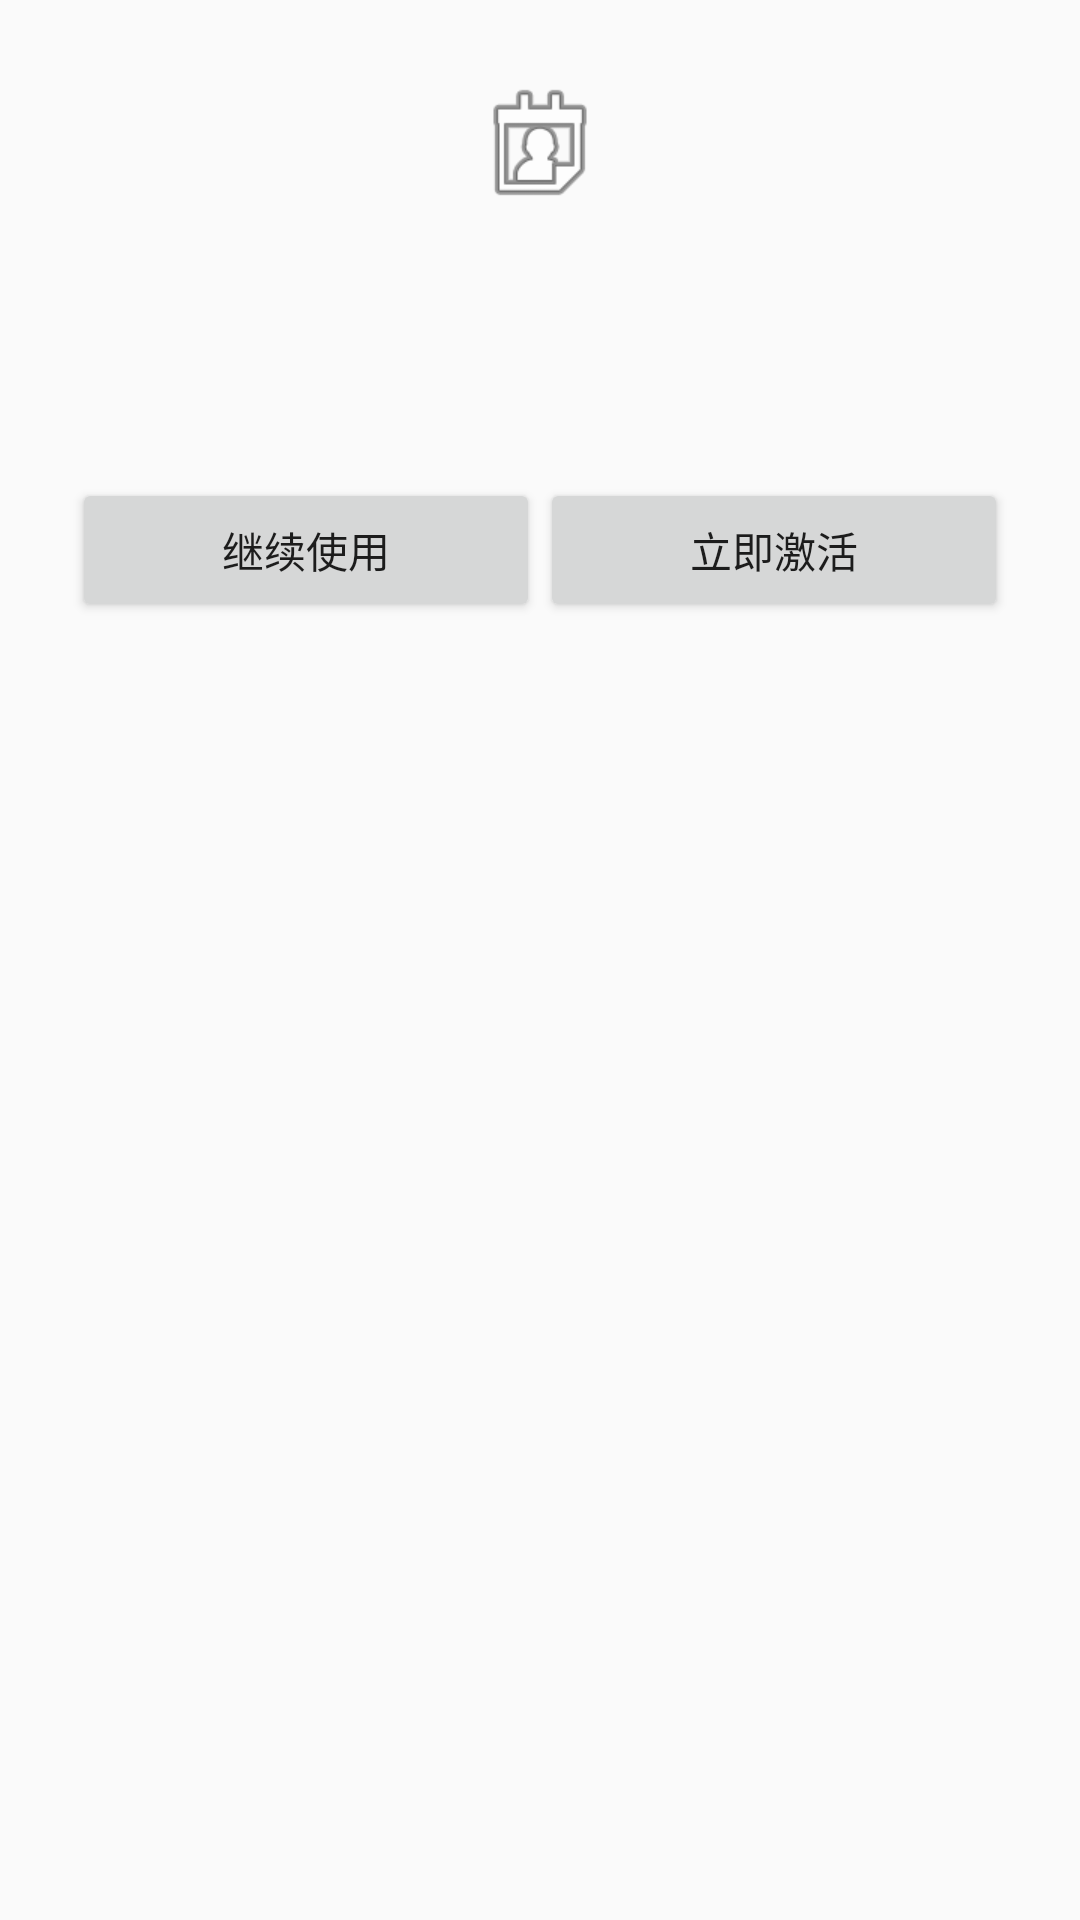

Locate icon controls on the screen. Image size 1080 x 1920, boxes as {"x1": x1, "y1": y1, "x2": x2, "y2": y2}.
calendar: {"x1": 493, "y1": 90, "x2": 587, "y2": 195}
